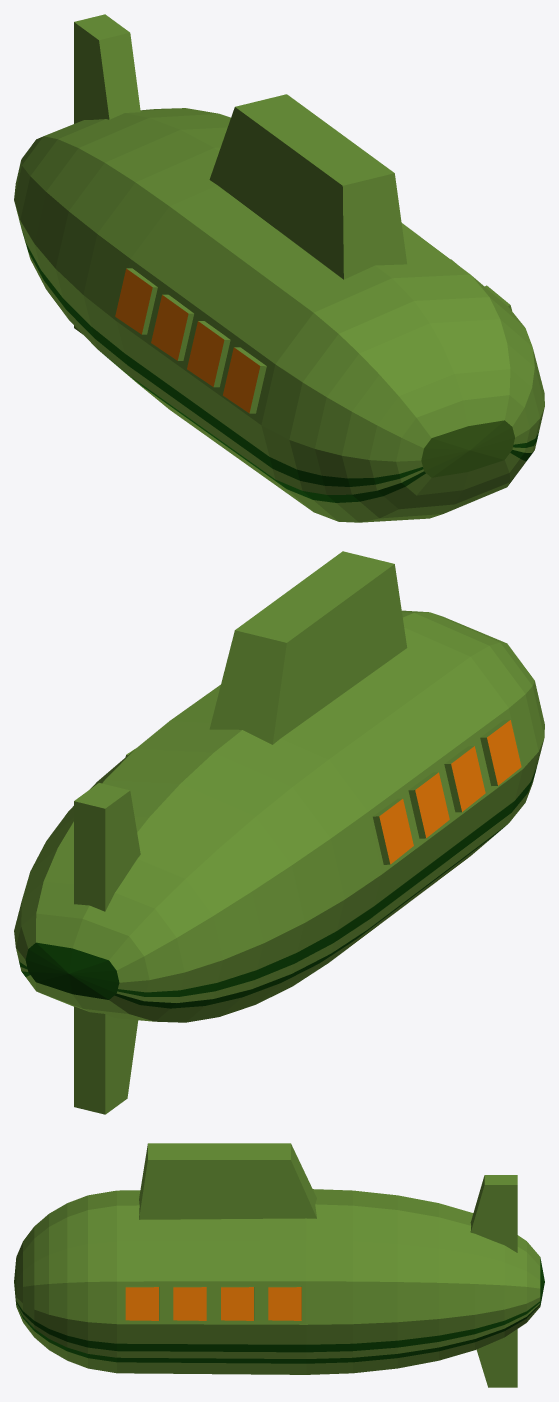
File: Submarine.glb
3 renders of one model, top to bottom at view 1: azimuth 30°, elevation 25°; view 2: azimuth 150°, elevation 25°; view 3: azimuth 270°, elevation 25°, orthographic. The views are drawn at different scales.
Parts seen in each view (by area): view 1: Cube; view 2: Cube; view 3: Cube.
Part boxes in pixels (bbox=[...]): Cube: bbox=[14, 14, 544, 522]; Cube: bbox=[14, 551, 544, 1114]; Cube: bbox=[14, 1143, 544, 1387].
Size of the model in its own units: 17.72 by 21.47 by 44.69.
1 material, 1 textured.
